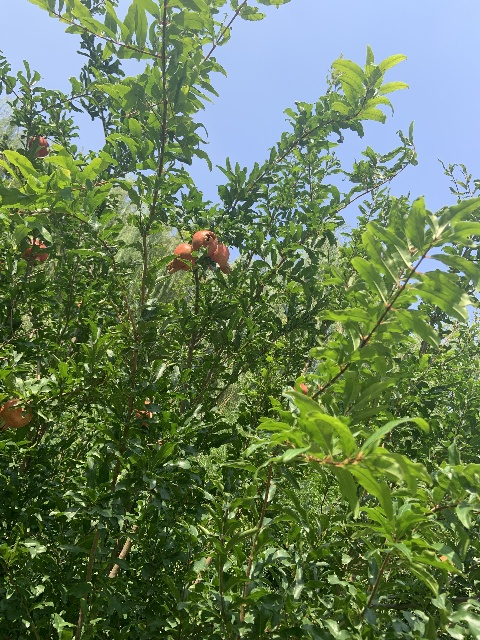ripe: (0, 398, 33, 429), (166, 243, 196, 273), (206, 242, 232, 274), (191, 230, 217, 256), (23, 239, 47, 265), (28, 136, 49, 158), (135, 401, 153, 426), (292, 383, 308, 395)
